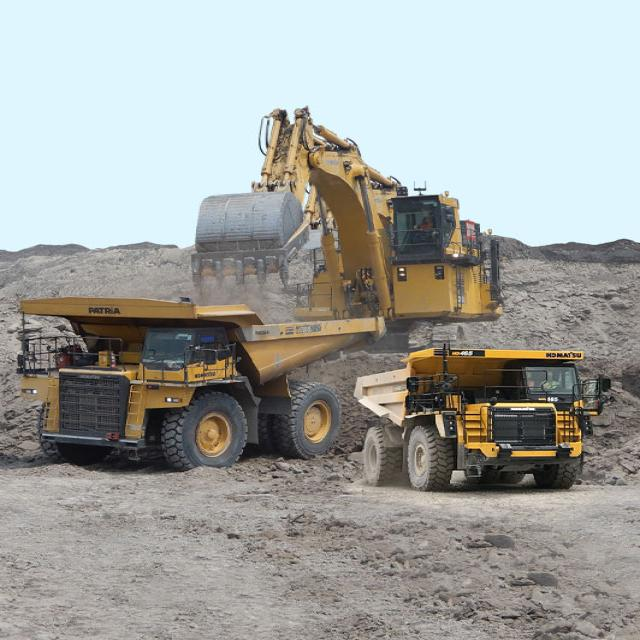dump_truck: (345, 345, 596, 491)
